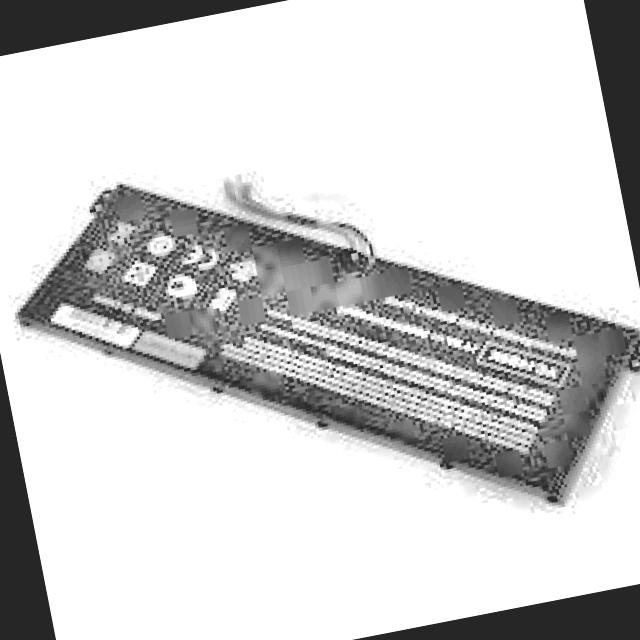Battery: (0, 95, 640, 593)
